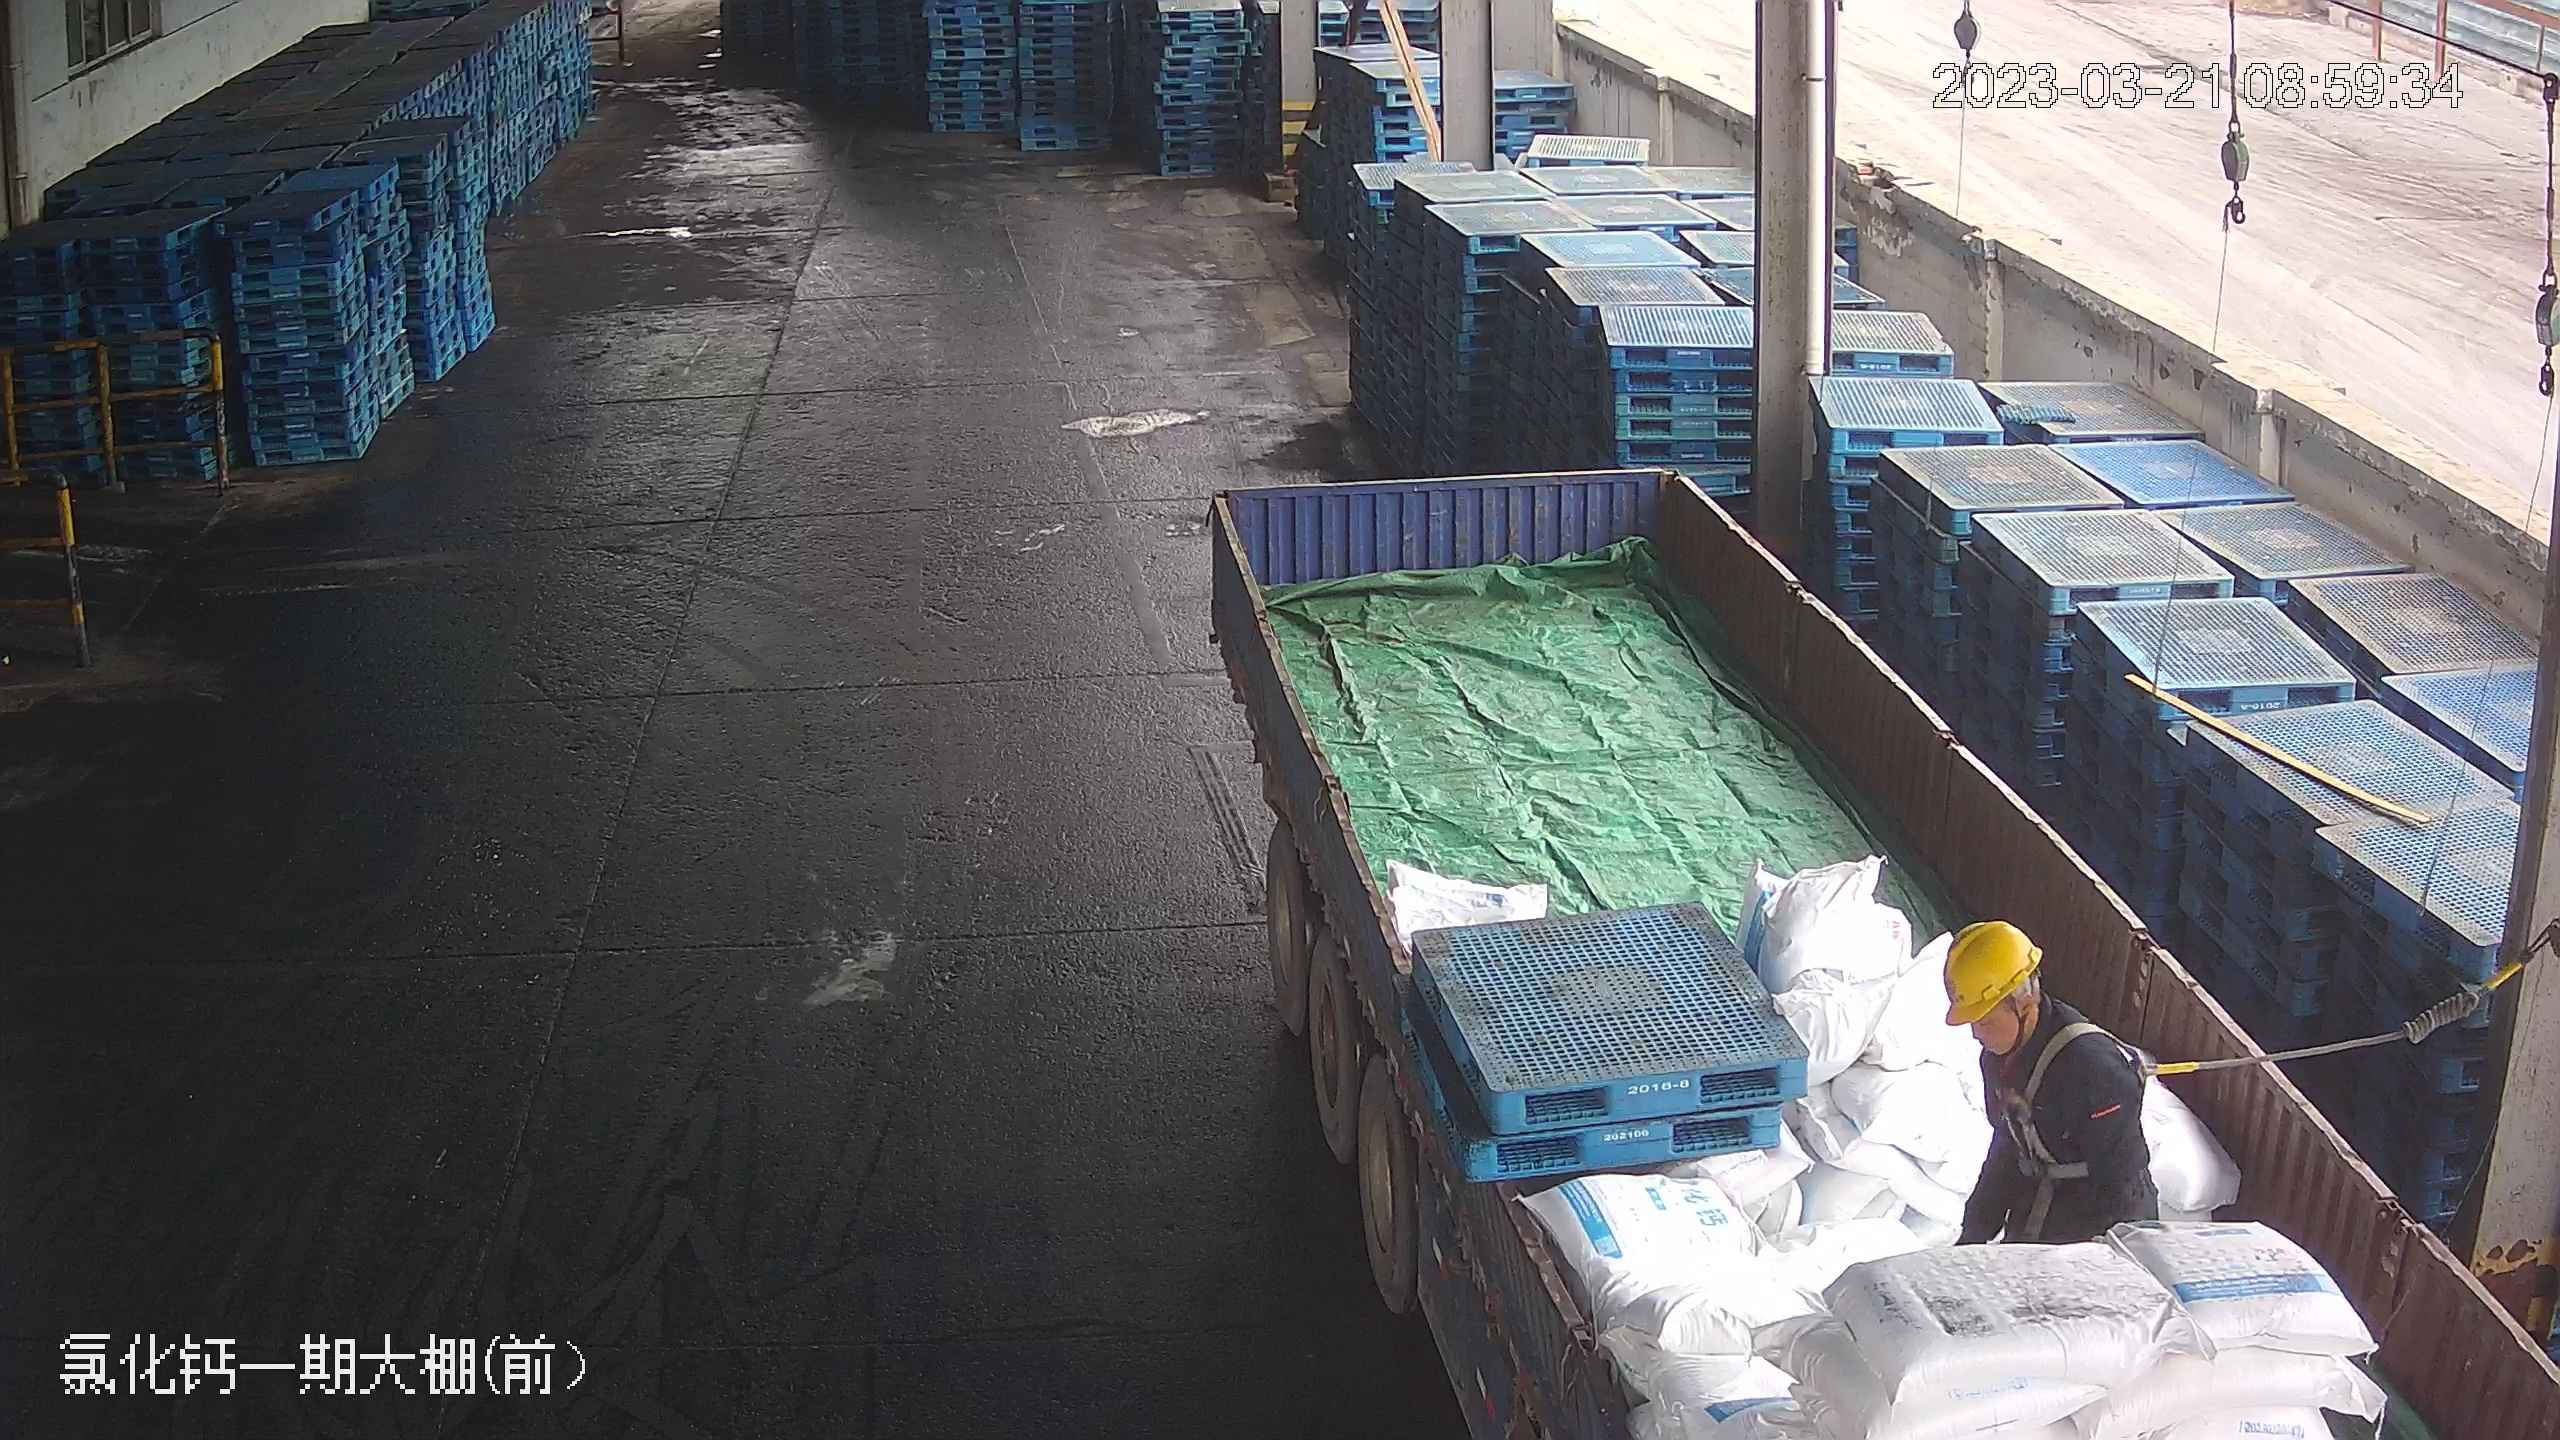belt: (1992, 1009, 2180, 1170)
head: (1942, 920, 2134, 1120)
helmet: (1940, 916, 2042, 1026)
people: (1936, 908, 2154, 1256)
truck: (1198, 460, 2560, 1440)
